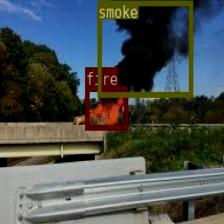fire: (84, 85, 126, 129)
smoke: (97, 0, 192, 96)
